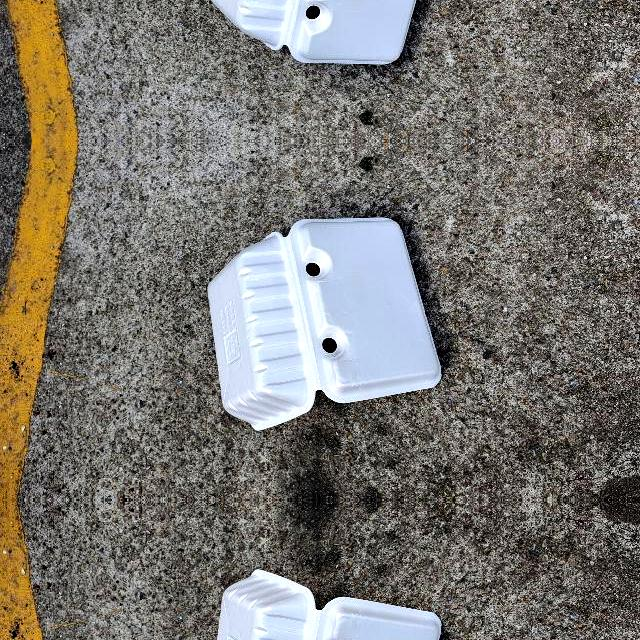Styrofoam: (207, 216, 441, 432), (208, 217, 441, 430), (207, 566, 441, 640), (216, 568, 441, 640), (207, 0, 441, 63), (211, 0, 416, 63)
